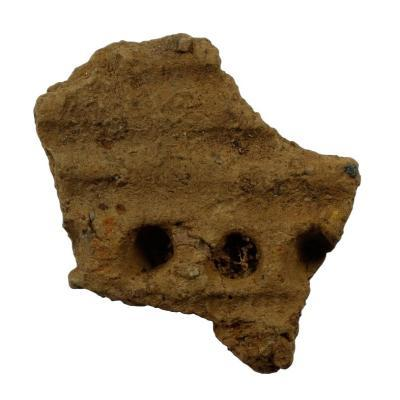archeology: (33, 33, 362, 375)
